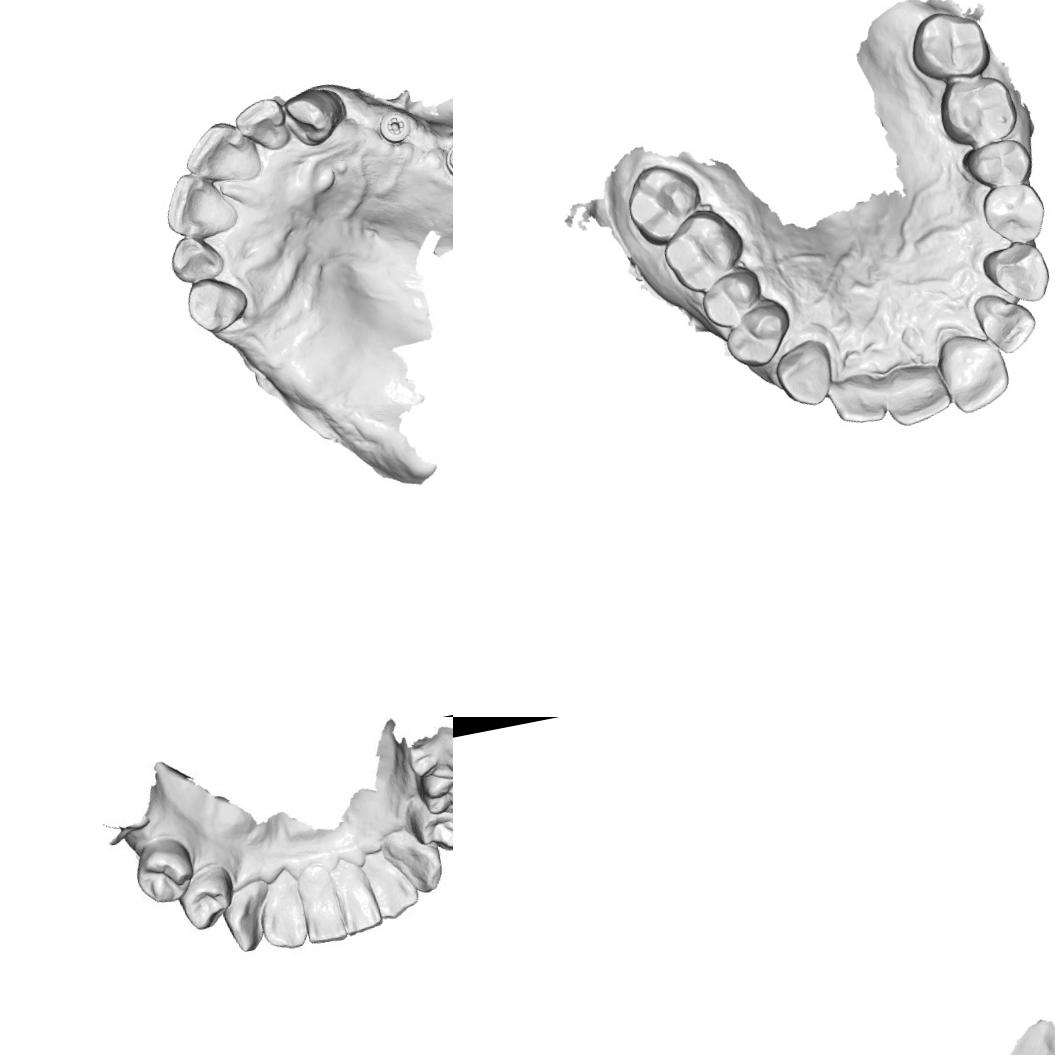canine: (978, 236, 1054, 310), (770, 335, 839, 412), (278, 80, 352, 151), (180, 270, 254, 336), (386, 827, 447, 899), (218, 888, 274, 954)
implant_minus: (439, 135, 453, 183)
implant_plus: (373, 106, 415, 148)
incisor: (932, 326, 1014, 418), (176, 114, 266, 192), (156, 164, 240, 244), (878, 357, 956, 430), (970, 285, 1040, 358), (294, 862, 352, 950), (229, 93, 292, 159), (256, 878, 310, 951), (331, 862, 382, 937), (826, 368, 888, 429), (364, 854, 418, 922), (165, 229, 227, 287)
molar: (656, 202, 750, 299), (618, 157, 708, 251), (903, 3, 994, 87), (932, 68, 1022, 150)
premolar: (718, 294, 797, 372), (978, 178, 1050, 250), (696, 262, 766, 332), (130, 836, 195, 910), (959, 134, 1036, 194), (177, 867, 236, 930), (410, 798, 453, 856), (412, 762, 453, 818)
